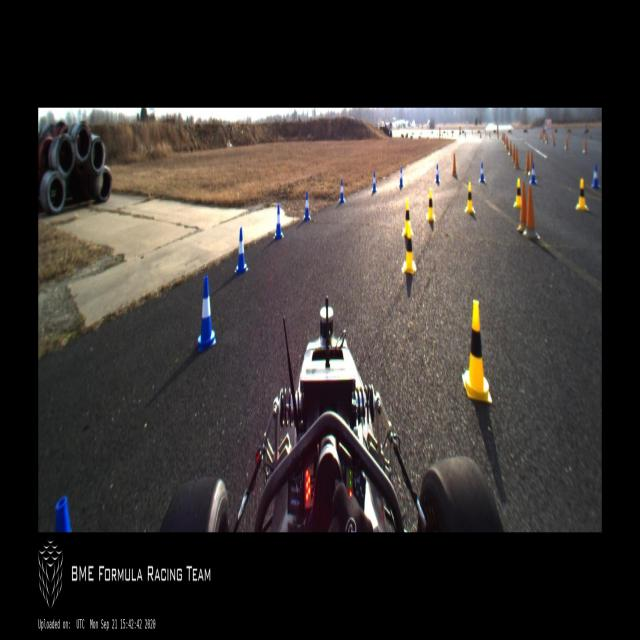blue_cone: (197, 276, 216, 352), (234, 228, 248, 274), (274, 205, 284, 239), (303, 192, 311, 222), (338, 179, 346, 203), (592, 165, 600, 188), (529, 163, 537, 184), (479, 163, 485, 182), (372, 172, 377, 193), (436, 164, 440, 184), (399, 168, 403, 188)
unknown_cone: (523, 184, 539, 238), (517, 182, 527, 230), (452, 153, 457, 176), (514, 148, 519, 170)
yellow_cone: (462, 301, 492, 402), (402, 222, 416, 274), (576, 178, 587, 211), (402, 200, 412, 236), (465, 182, 475, 213), (426, 188, 435, 221), (514, 178, 521, 207)
